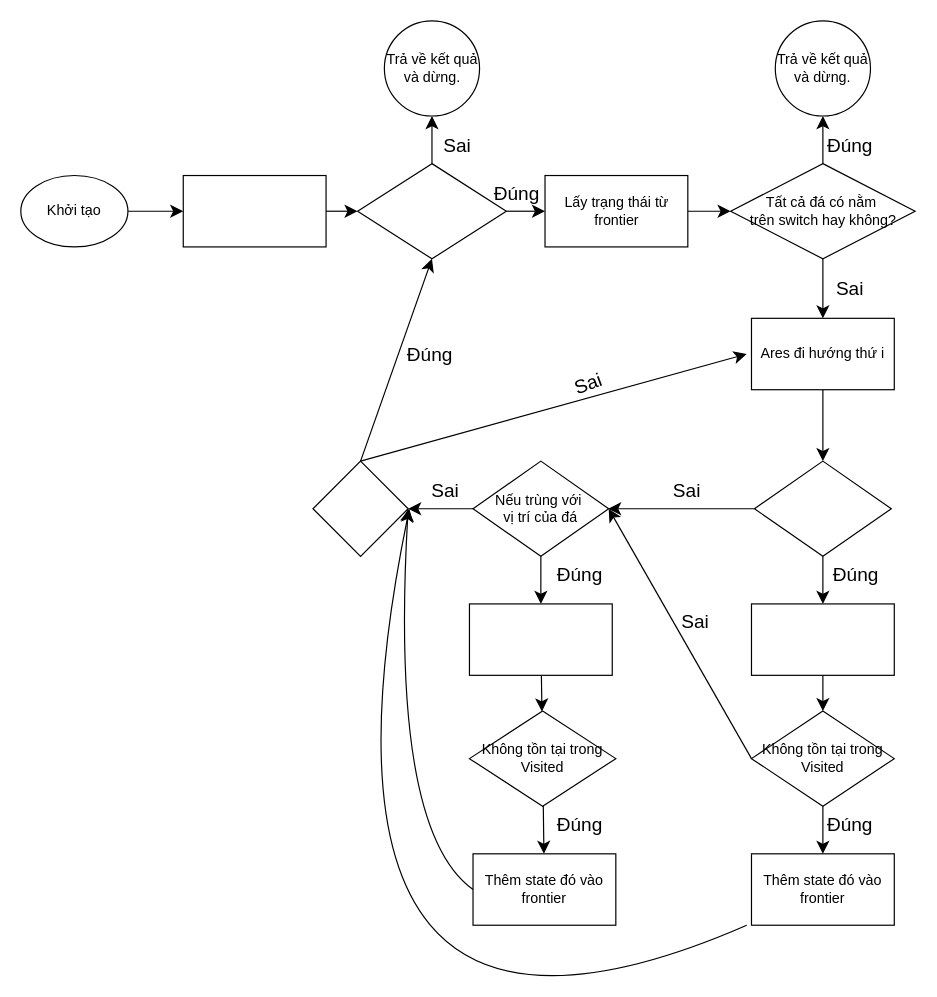
Some shapes in this 937 by 997 pixel diagram are drawn without their labels. Here are the shapes that lost their labels. From the top down, the centre of each, then its label:
At point (254, 210): "Thêm trạng thái".
At point (431, 210): "Nếu frontier không rỗng".
At point (360, 508): "Đã đi hết hướng?".
At point (822, 508): "Ô tiếp trống?".
At point (540, 639): "Tạo một trạng thái mới, cập nhật.".
At point (822, 639): "Tạo một state mới, cập nhật".
